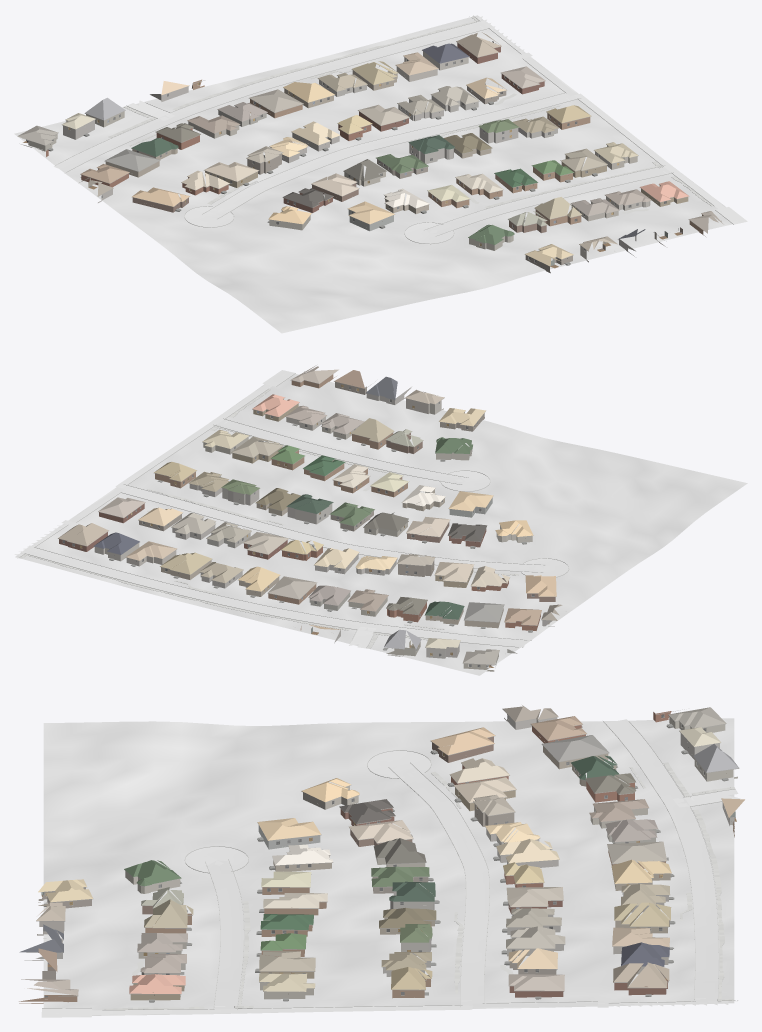
The picture shows the model from 3 angles, top to bottom: view 1: azimuth 30°, elevation 25°; view 2: azimuth 150°, elevation 25°; view 3: azimuth 270°, elevation 25°; orthographic projection. The views are drawn at different scales.
Visible parts, largest first — view 1: ground, roof, concrete, wall, detail, wall_stucco, curb, wall_stone, walk, asphalt; view 2: ground, roof, concrete, wall, wall_stucco, detail, curb, wall_stone, asphalt, walk; view 3: ground, roof, concrete, wall, detail, wall_stucco, asphalt, walk, curb, wall_stone, glass.
Boxes of the visible parts, x1,y1,x2,y2 form: ground: [14, 15, 732, 333]; roof: [17, 32, 723, 266]; concrete: [54, 20, 671, 243]; wall: [46, 43, 705, 273]; detail: [22, 41, 721, 266]; wall_stucco: [21, 51, 650, 262]; curb: [55, 15, 733, 244]; wall_stone: [63, 76, 636, 256]; walk: [108, 16, 713, 213]; asphalt: [477, 16, 747, 224]; ground: [15, 374, 747, 675]; roof: [58, 365, 562, 664]; concrete: [21, 419, 568, 648]; wall: [59, 374, 555, 630]; wall_stucco: [94, 398, 532, 671]; detail: [58, 371, 566, 667]; curb: [17, 373, 569, 648]; wall_stone: [172, 387, 554, 658]; asphalt: [14, 370, 294, 556]; walk: [19, 389, 518, 648]; ground: [43, 718, 734, 1015]; roof: [19, 705, 744, 995]; concrete: [185, 719, 740, 1009]; wall: [19, 711, 734, 1003]; detail: [26, 709, 739, 1002]; wall_stucco: [37, 717, 737, 999]; asphalt: [41, 1001, 728, 1017]; walk: [102, 762, 735, 1009]; curb: [42, 720, 737, 1010]; wall_stone: [24, 714, 734, 976]; glass: [43, 714, 724, 997].
Size of the model in its own units: 255 by 14.98 by 266.
